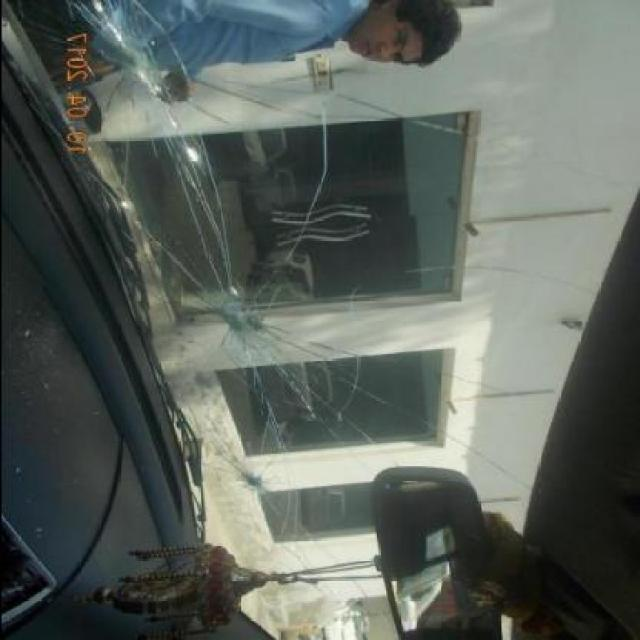damage: (74, 2, 212, 182), (184, 261, 307, 385), (223, 453, 285, 504)
